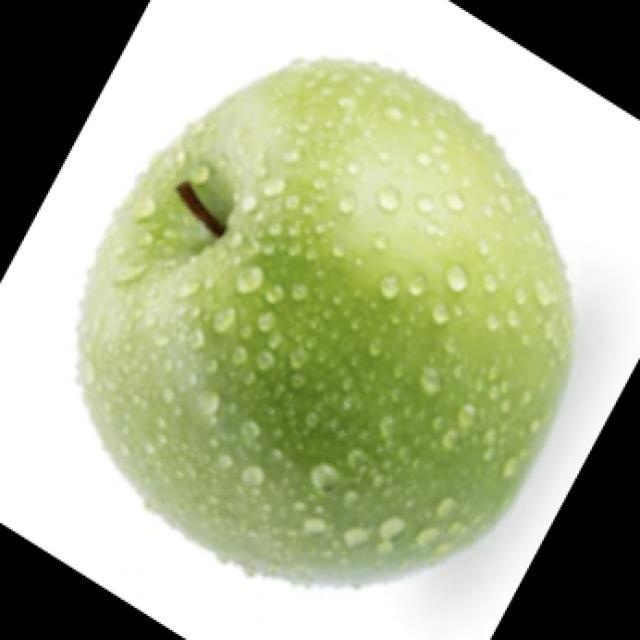Fresh Apple: (91, 69, 602, 564)
